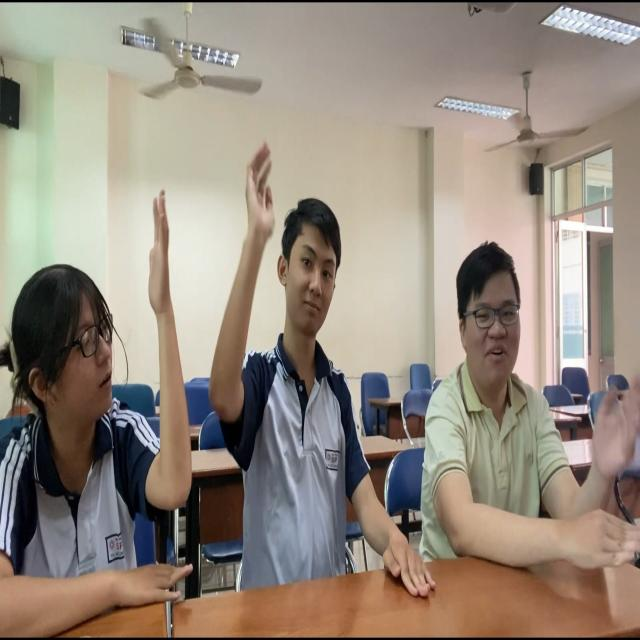raise_hand: (1, 148, 209, 640)
